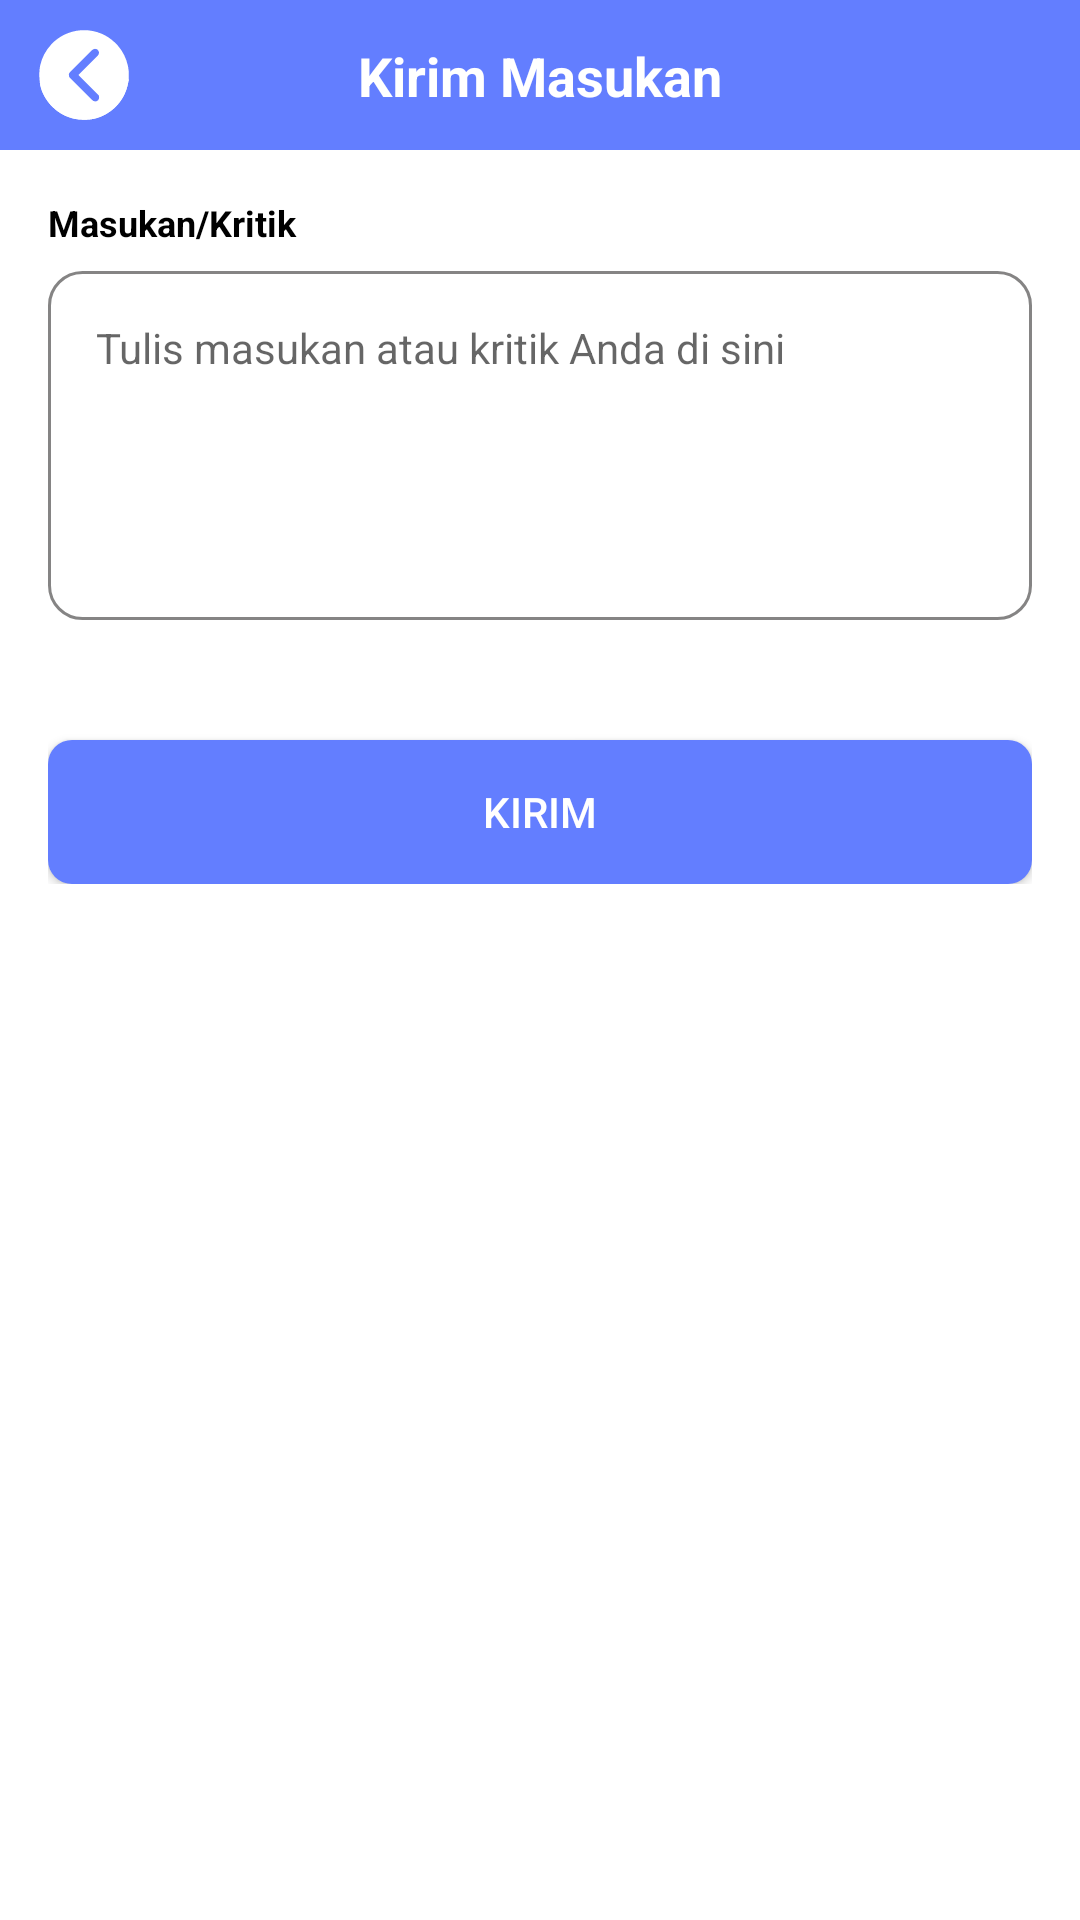

Where to tap for icons on this 1080w x 1920h app screen, as (x,y):
Kembali: (84,75)
